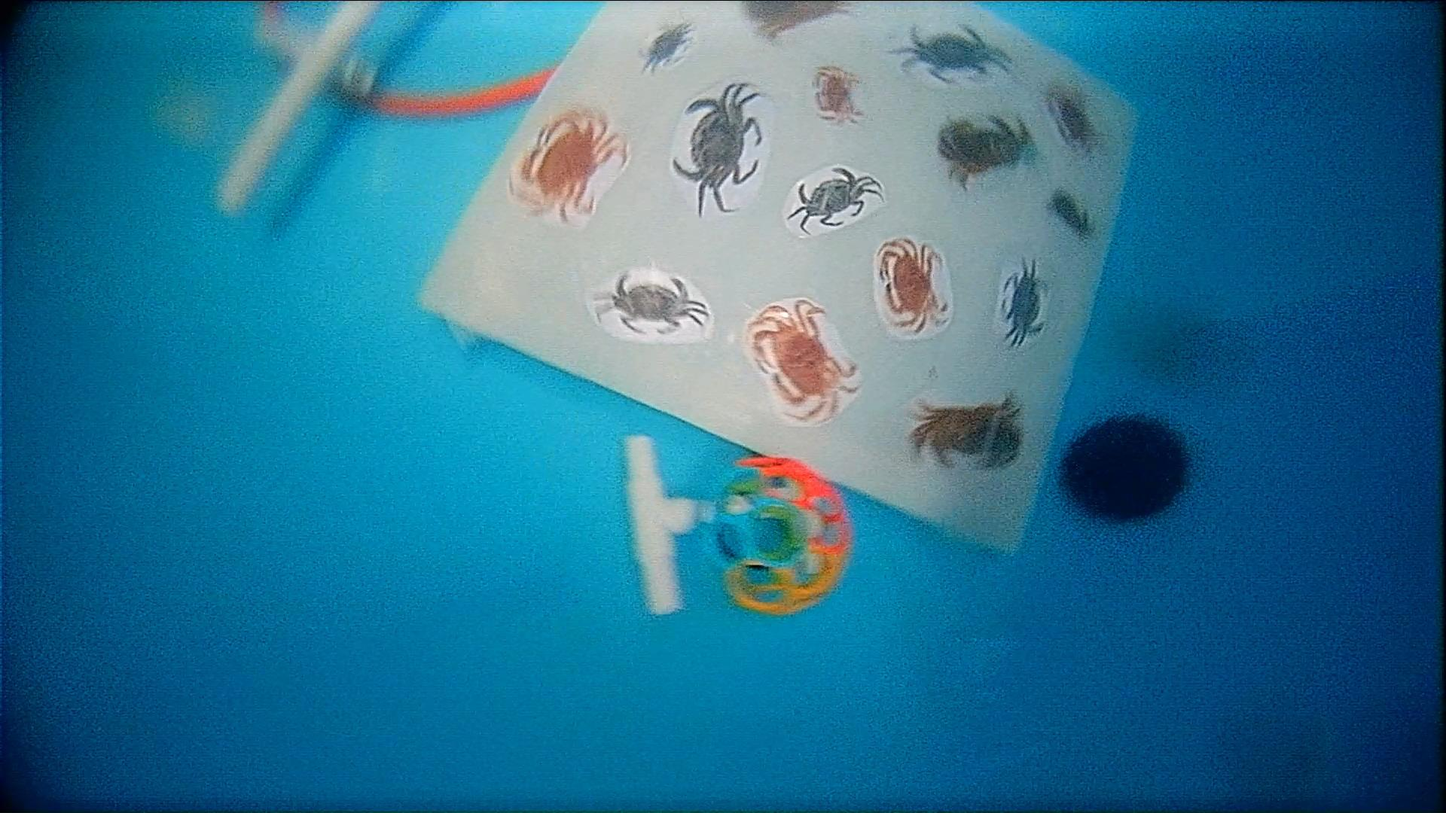GreenCrab: (672, 83, 764, 216), (596, 274, 707, 334), (890, 26, 1011, 81), (786, 167, 883, 234), (1002, 258, 1042, 346)
